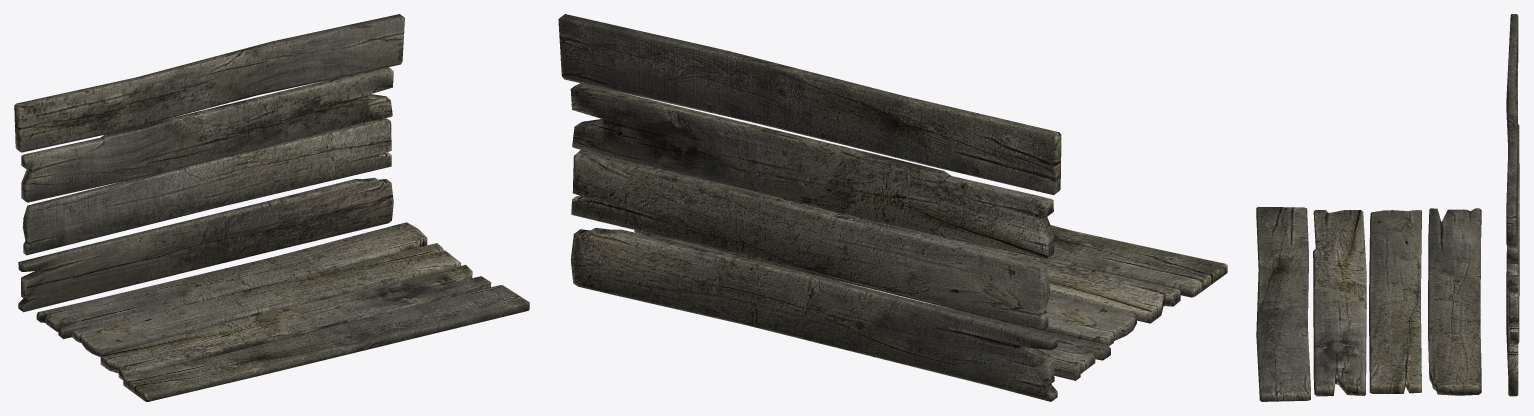
File: WoodenPlanks.dae
3 views of the same model, side by side, from view 1: azimuth 30°, elevation 25°; view 2: azimuth 150°, elevation 25°; view 3: azimuth 270°, elevation 25° (orthographic). The views are drawn at different scales.
Visible parts, largest first — view 1: Plank1, Plank4, Plank2, Plank3, Plank8, Plank7, plank6, Plank5; view 2: Plank1, Plank4, Plank2, Plank3, Plank8, Plank7, plank6, Plank5; view 3: Plank8, Plank5, Plank7, plank6, Plank1, Plank4, Plank3, Plank2.
Boxes of the visible parts, <box> form: Plank1: <box>14,14,404,152</box>; Plank4: <box>18,177,393,312</box>; Plank2: <box>21,67,393,202</box>; Plank3: <box>22,118,391,255</box>; Plank8: <box>123,150,529,401</box>; Plank7: <box>100,264,491,379</box>; plank6: <box>72,243,460,356</box>; Plank5: <box>36,222,427,339</box>; Plank1: <box>558,14,1061,195</box>; Plank4: <box>570,228,1057,401</box>; Plank2: <box>570,83,1053,259</box>; Plank3: <box>571,150,1049,330</box>; Plank8: <box>572,193,1227,297</box>; Plank7: <box>915,231,1180,323</box>; plank6: <box>634,230,1136,345</box>; Plank5: <box>643,234,1110,380</box>; Plank8: <box>1256,206,1518,401</box>; Plank5: <box>1428,208,1481,395</box>; Plank7: <box>1313,210,1366,396</box>; plank6: <box>1369,210,1421,393</box>; Plank1: <box>1506,14,1518,246</box>; Plank4: <box>1506,246,1518,396</box>; Plank3: <box>1509,124,1519,343</box>; Plank2: <box>1507,70,1517,292</box>.
Bounding box in the file's own units: 269 × 161 × 138.
Materials: 1 (1 with a texture image).
